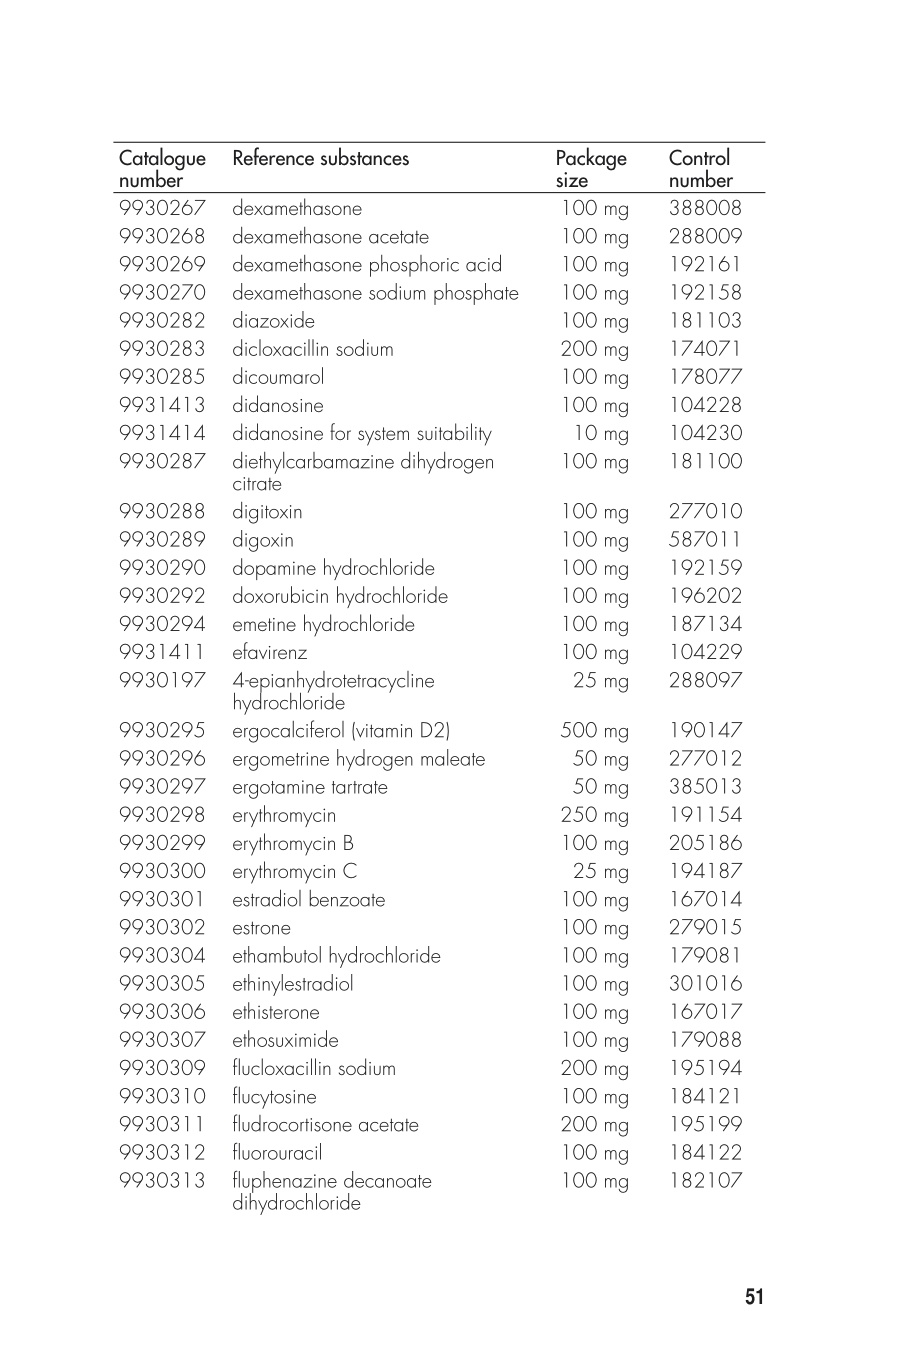partial_lined: (113, 139, 765, 1212)
